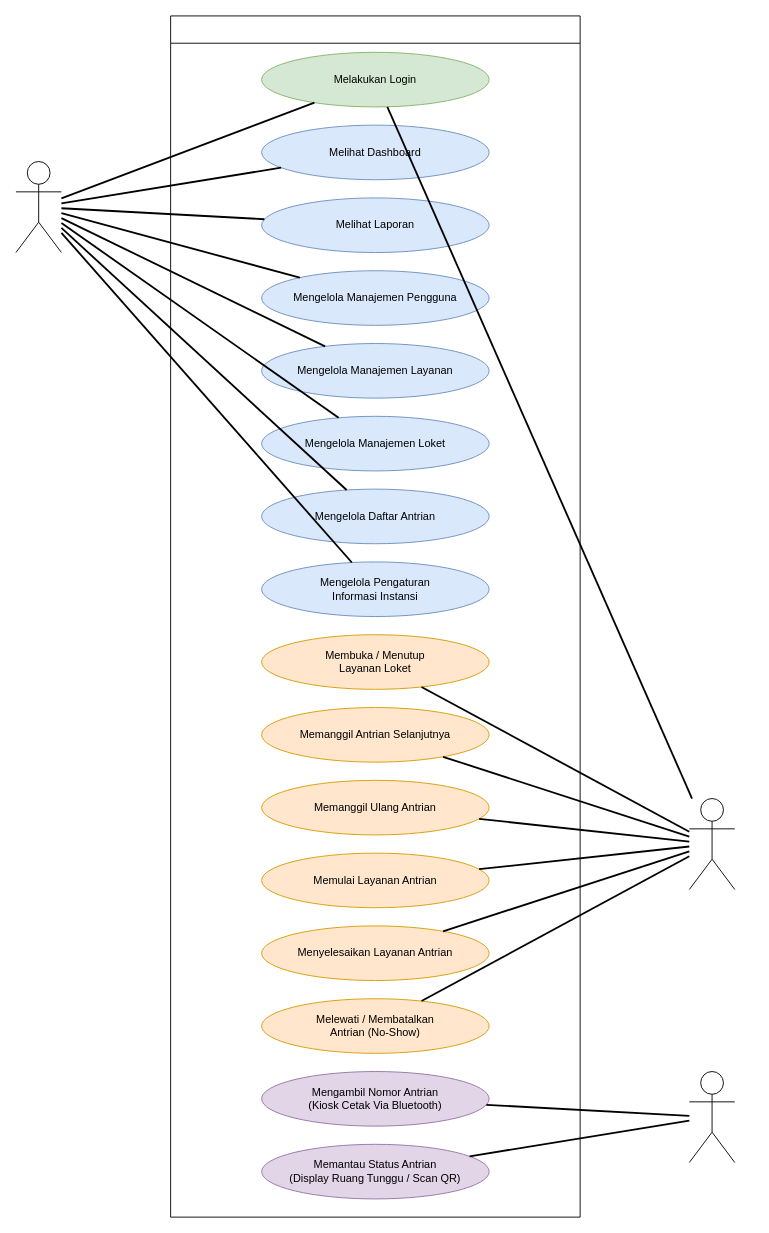
Image size: 769x1233. Some labels were removed from this diagram. The shapes that lost their labels are listed below. From the top down, each one's box as (x1, y1, x2, y2) in pixels, then its label:
(15, 161, 61, 253): Admin
(170, 15, 580, 1217): Use Case Diagram
(688, 798, 735, 890): Operator (Petugas Loket)
(688, 1071, 735, 1163): Pasien / Pengunjung
